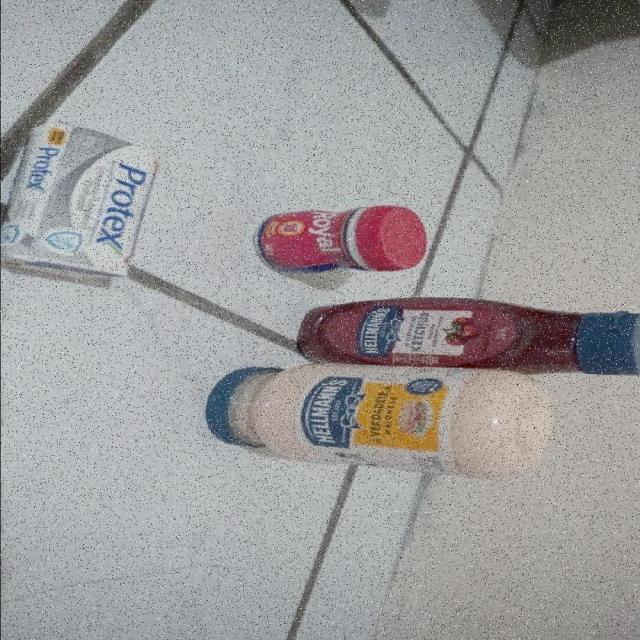Ketchup: (298, 299, 640, 365)
Mayonnaise: (196, 368, 558, 478)
Soap: (0, 123, 165, 281)
Yeast: (252, 203, 428, 275)
